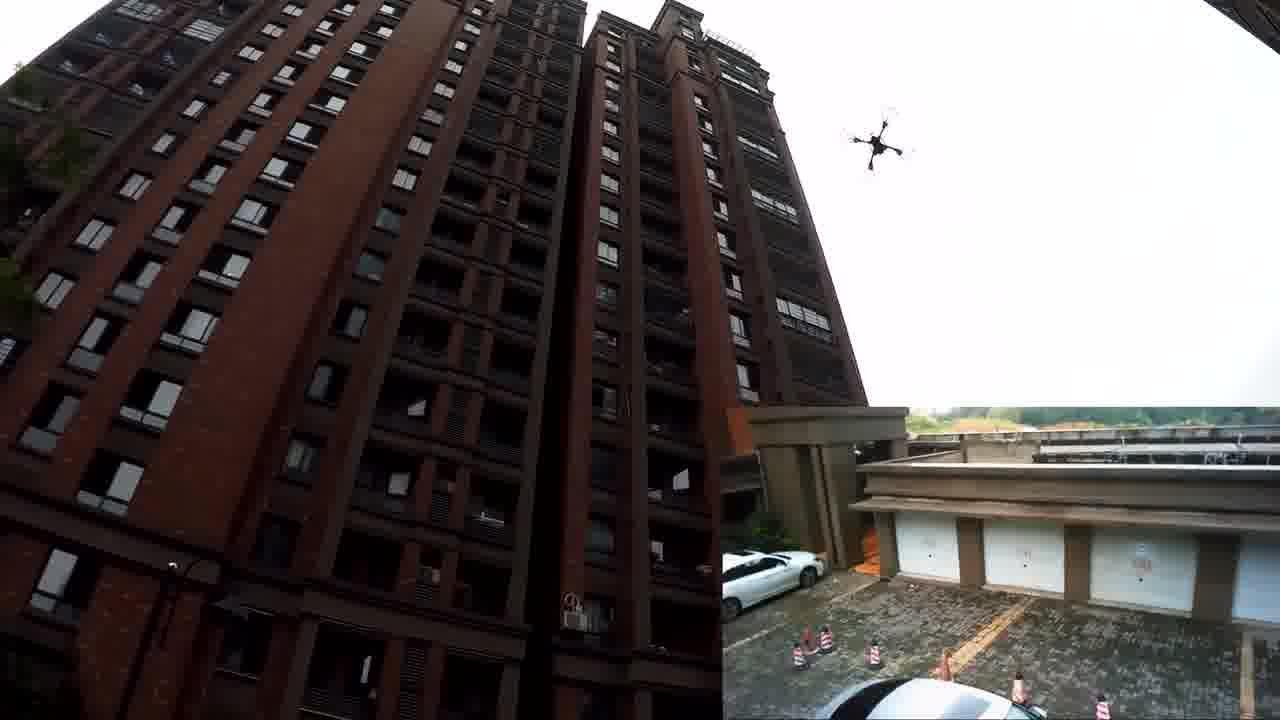drone: (844, 110, 908, 170)
